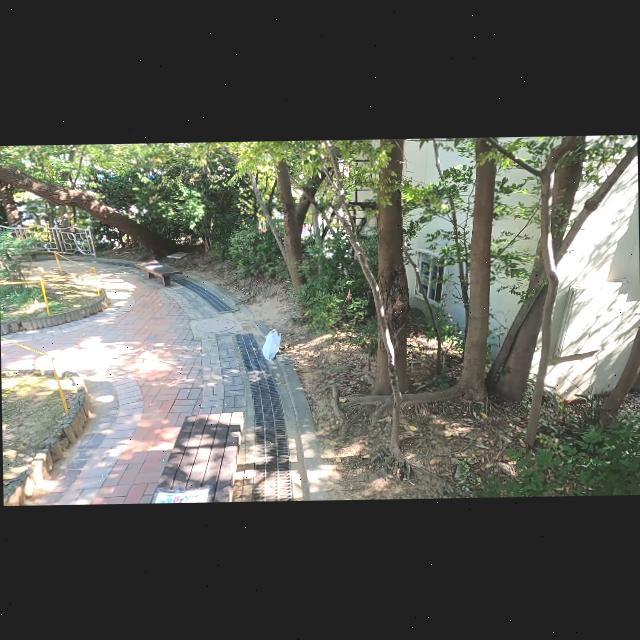trash: (260, 324, 282, 364)
